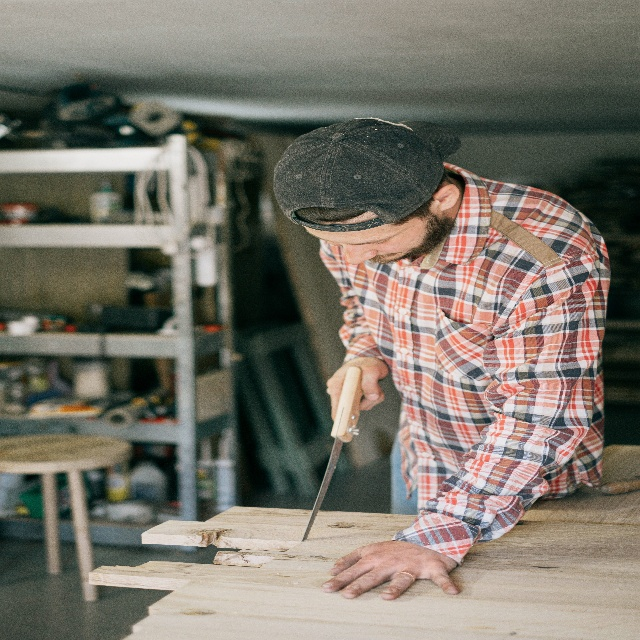Sin_guantes: (320, 540, 460, 602), (326, 356, 389, 422)
